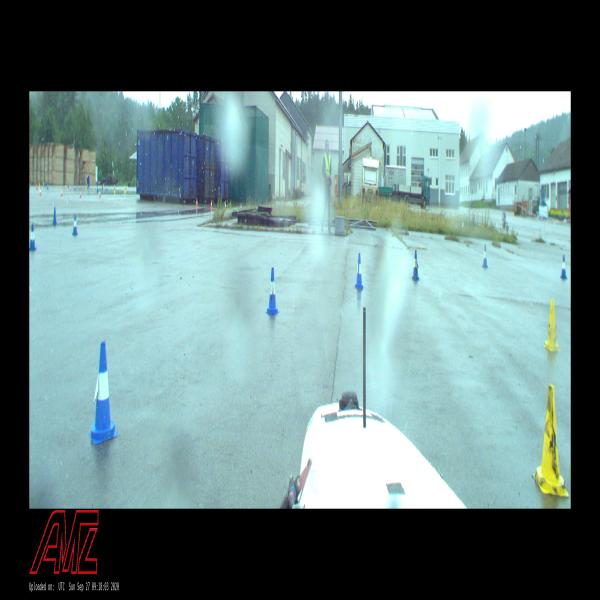blue_cone: (88, 342, 118, 443), (266, 268, 279, 314), (354, 253, 364, 289), (412, 250, 420, 280), (29, 224, 37, 250), (560, 256, 567, 278), (482, 246, 488, 268), (72, 214, 78, 234), (52, 207, 57, 225)
orange_cone: (210, 200, 212, 210), (61, 187, 63, 197), (99, 189, 101, 198), (196, 199, 198, 207), (36, 182, 38, 190), (69, 184, 71, 192), (240, 202, 242, 210), (40, 187, 41, 196), (225, 200, 226, 209), (80, 190, 81, 198)
yellow_cone: (533, 385, 569, 496), (543, 298, 561, 351), (114, 185, 115, 193), (125, 186, 126, 194)
